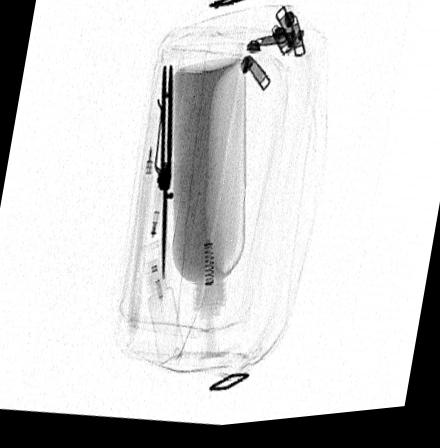Knife: (153, 66, 174, 281)
